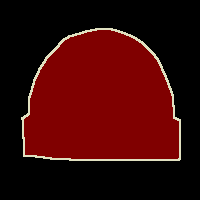hat: (22, 28, 180, 160)
